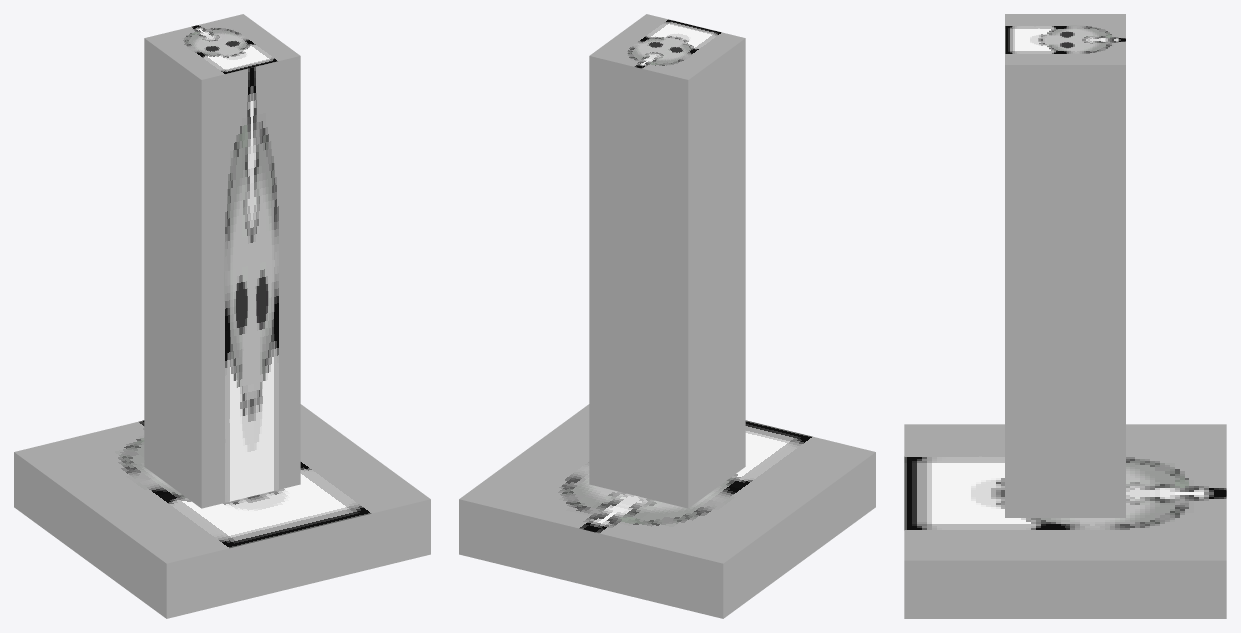
File: Building_Skullspike.glb
The picture shows the model from 3 angles, left to right: view 1: azimuth 30°, elevation 25°; view 2: azimuth 150°, elevation 25°; view 3: azimuth 270°, elevation 25°; orthographic projection. The views are drawn at different scales.
Parts seen in each view (by area): view 1: Skullspike; view 2: Skullspike; view 3: Skullspike.
Part boxes in pixels (<box>): Skullspike: <box>14,14,430,618</box>; Skullspike: <box>459,14,875,618</box>; Skullspike: <box>904,14,1226,618</box>.
Bounding box in the file's own units: 0.8 × 1.4 × 0.8.
Materials: 1 (1 with a texture image).
